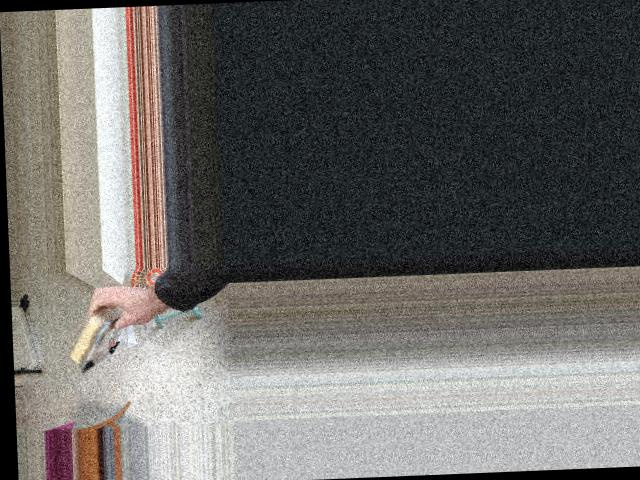cheese: (53, 275, 144, 386)
